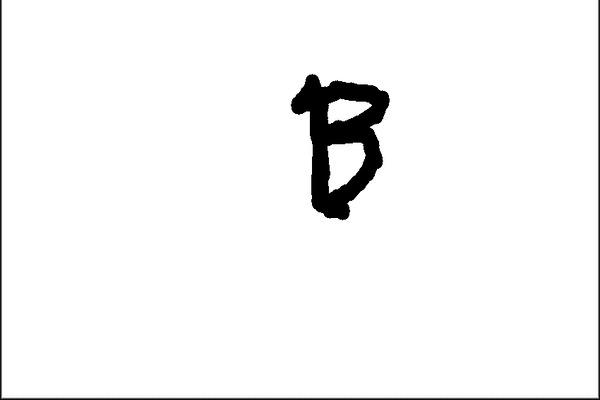B: (283, 67, 398, 228)
